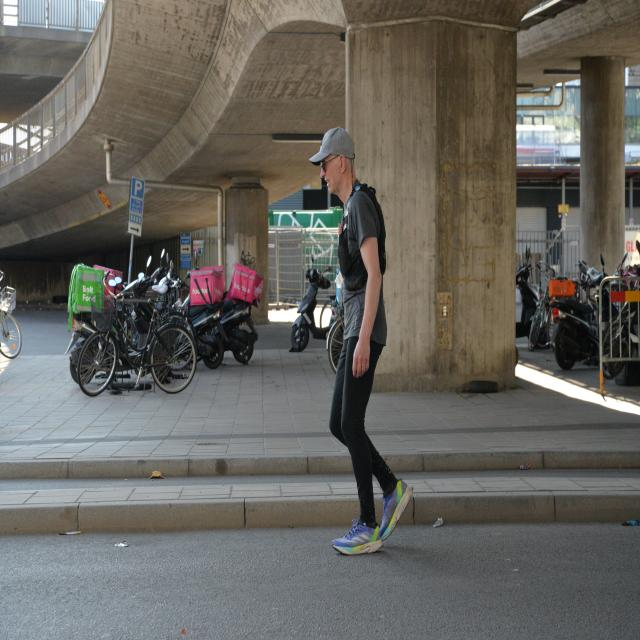runner-detect: (302, 116, 416, 565)
